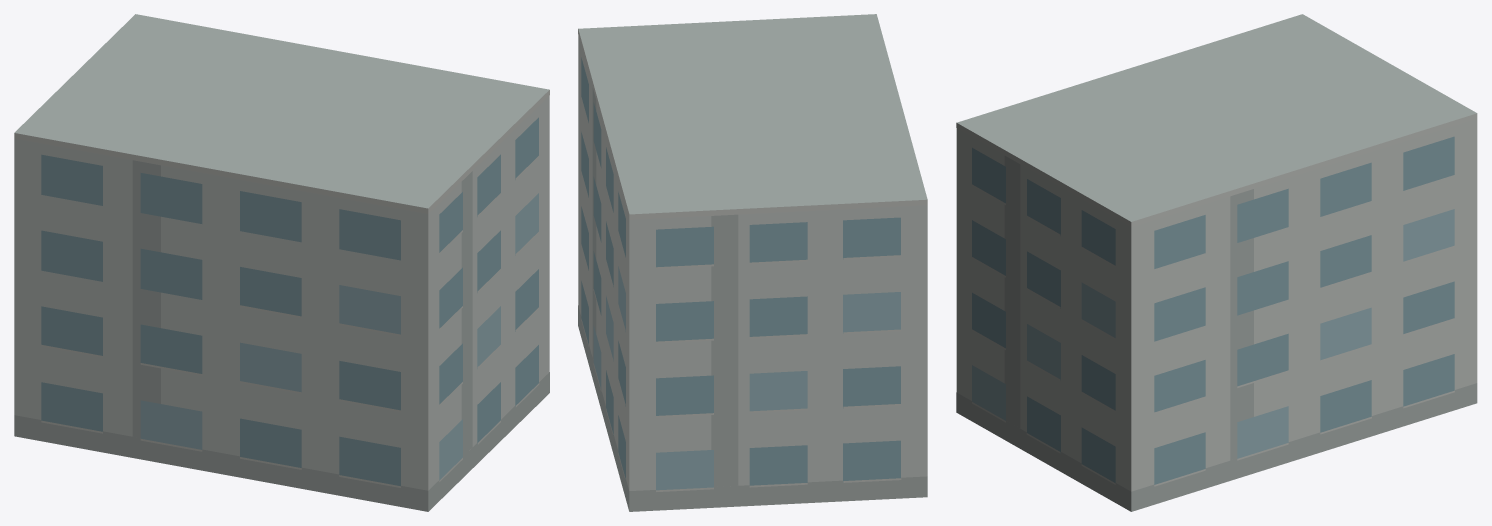
File: residential-f6d429f4-6e58-45d2-9c5b-30c5751002e6.glb
The picture shows the model from 3 angles, left to right: view 1: azimuth 30°, elevation 25°; view 2: azimuth 150°, elevation 25°; view 3: azimuth 270°, elevation 25°; orthographic projection. The views are drawn at different scales.
Visible parts, largest first — view 1: residential-f6d429f4-6e58-45d2-9c5b-30c5751002e6.tmp; view 2: residential-f6d429f4-6e58-45d2-9c5b-30c5751002e6.tmp; view 3: residential-f6d429f4-6e58-45d2-9c5b-30c5751002e6.tmp.
Part boxes in pixels (x1=…): residential-f6d429f4-6e58-45d2-9c5b-30c5751002e6.tmp: x1=14, y1=14, x2=549, y2=511; residential-f6d429f4-6e58-45d2-9c5b-30c5751002e6.tmp: x1=578, y1=14, x2=927, y2=511; residential-f6d429f4-6e58-45d2-9c5b-30c5751002e6.tmp: x1=956, y1=14, x2=1477, y2=511.
Size of the model in its own units: 20.01 by 13 by 21.17.
